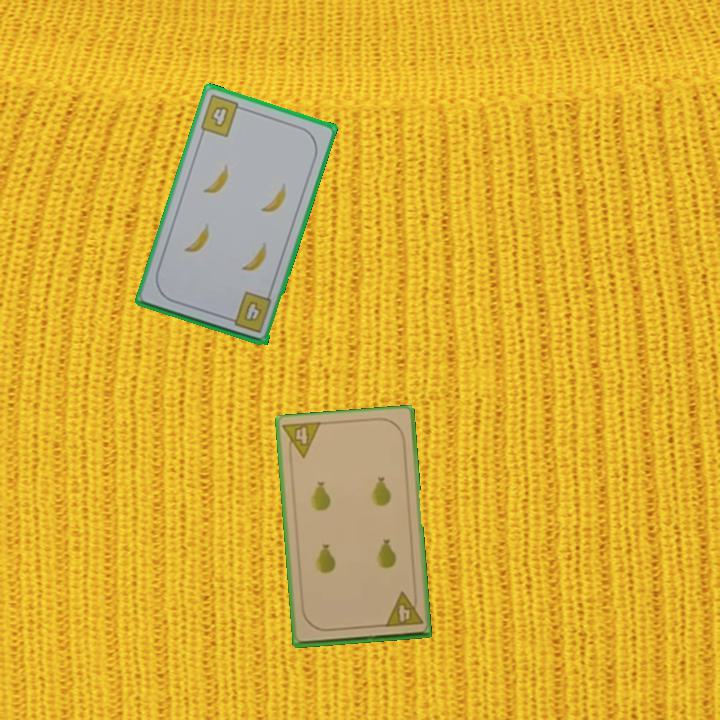4b: (197, 91, 248, 140), (223, 288, 274, 336)
4p: (279, 419, 324, 463), (381, 589, 425, 630)
